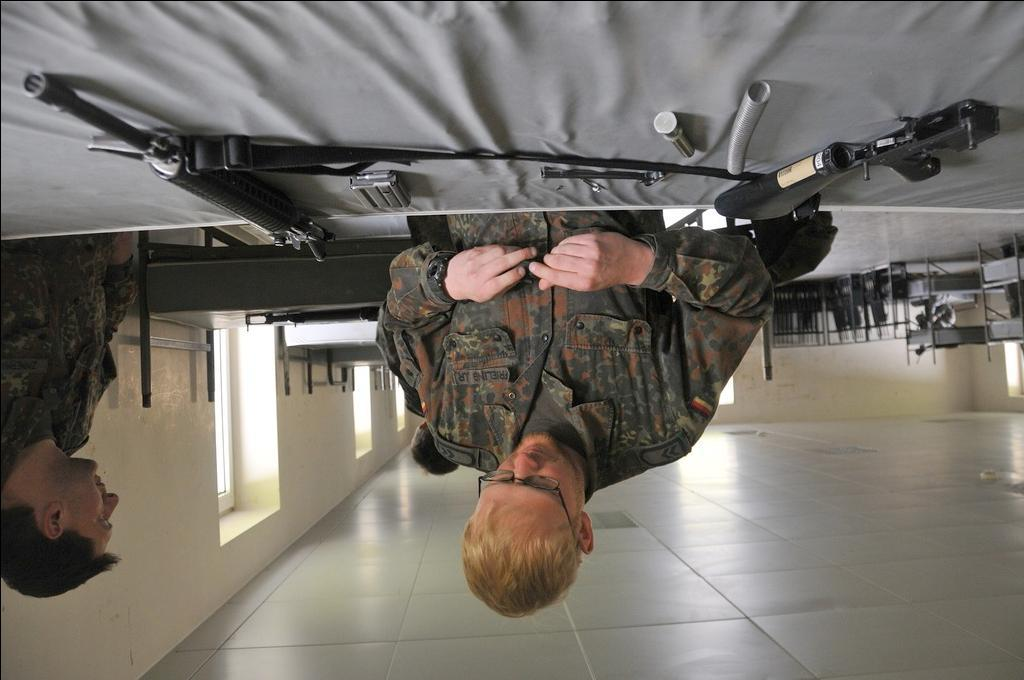gun: (20, 69, 336, 260)
